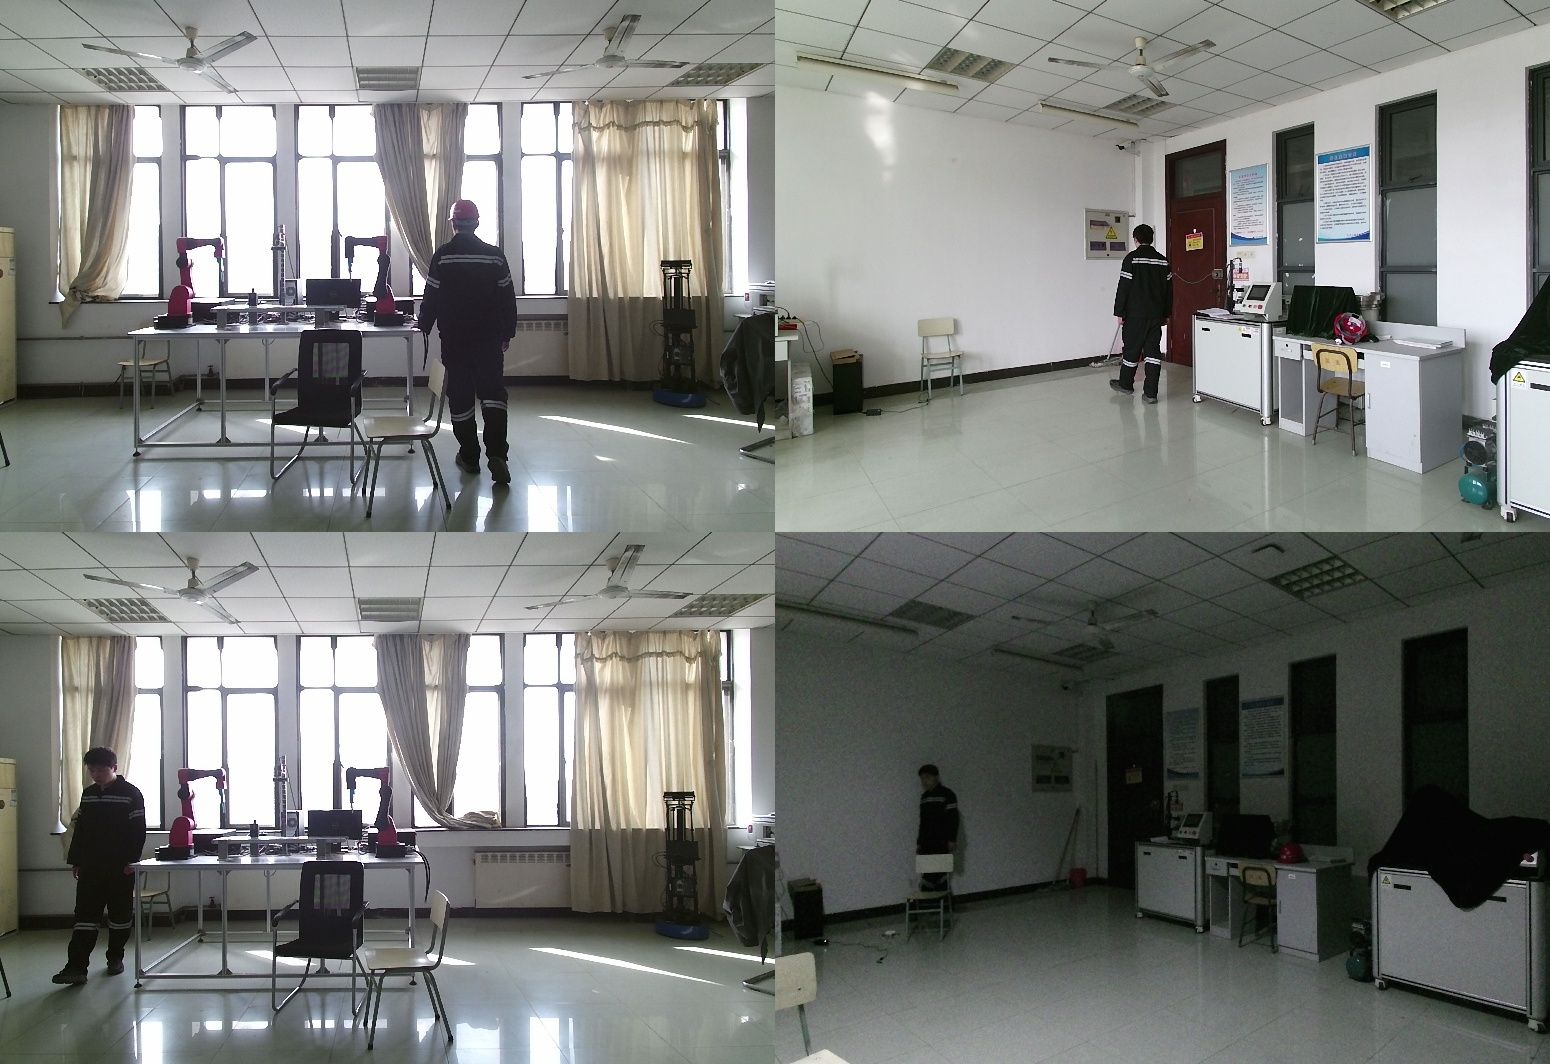person: (422, 200, 527, 514), (50, 749, 146, 983), (1111, 226, 1179, 410), (916, 764, 965, 858)
